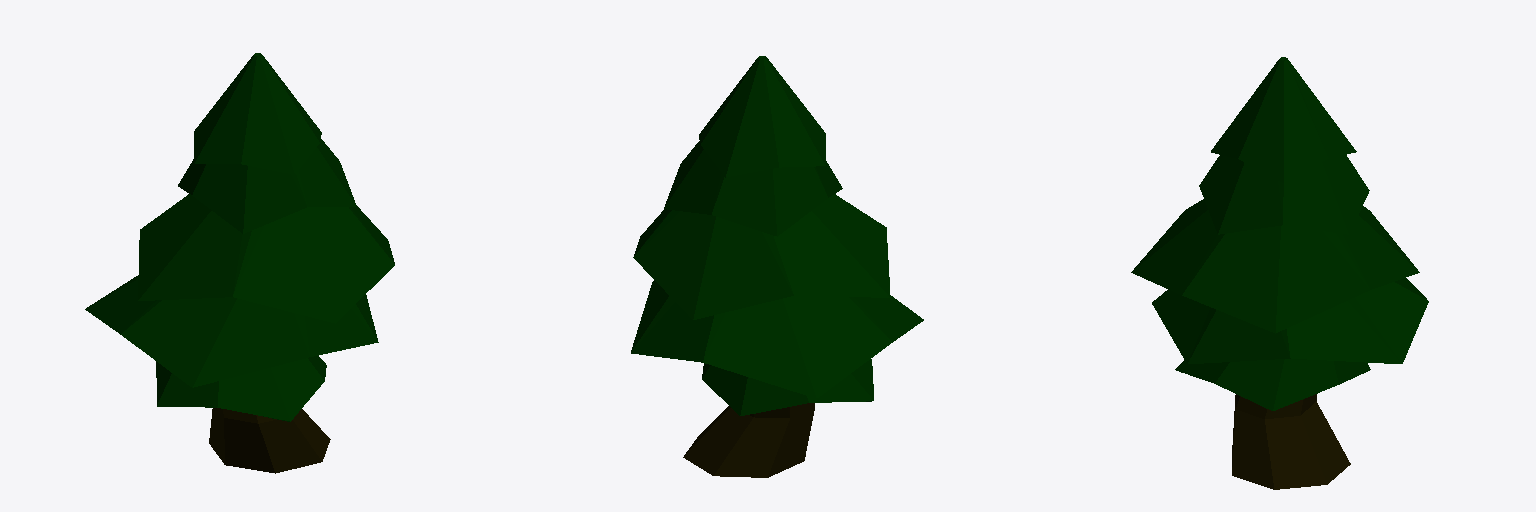
The model's file is tree.obj.
3 renders of one model, left to right at view 1: azimuth 30°, elevation 25°; view 2: azimuth 150°, elevation 25°; view 3: azimuth 270°, elevation 25°, orthographic.
Visible parts, largest first — view 1: Circle.001, Circle; view 2: Circle.001, Circle; view 3: Circle.001, Circle.
Boxes of the visible parts, x1=… form: Circle.001: x1=85, y1=53, x2=394, y2=421; Circle: x1=209, y1=408, x2=330, y2=473; Circle.001: x1=631, y1=56, x2=923, y2=415; Circle: x1=683, y1=403, x2=814, y2=477; Circle.001: x1=1131, y1=57, x2=1428, y2=410; Circle: x1=1232, y1=394, x2=1350, y2=489.
Bounding box in the file's own units: 3.7 × 5.4 × 3.67.